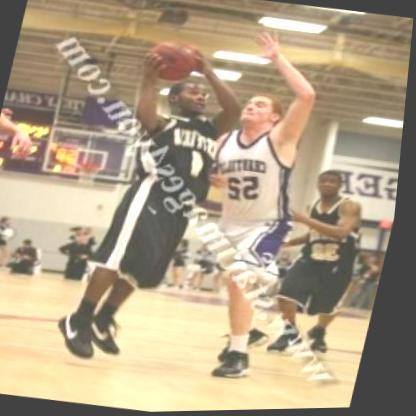basketball: (140, 31, 211, 93)
